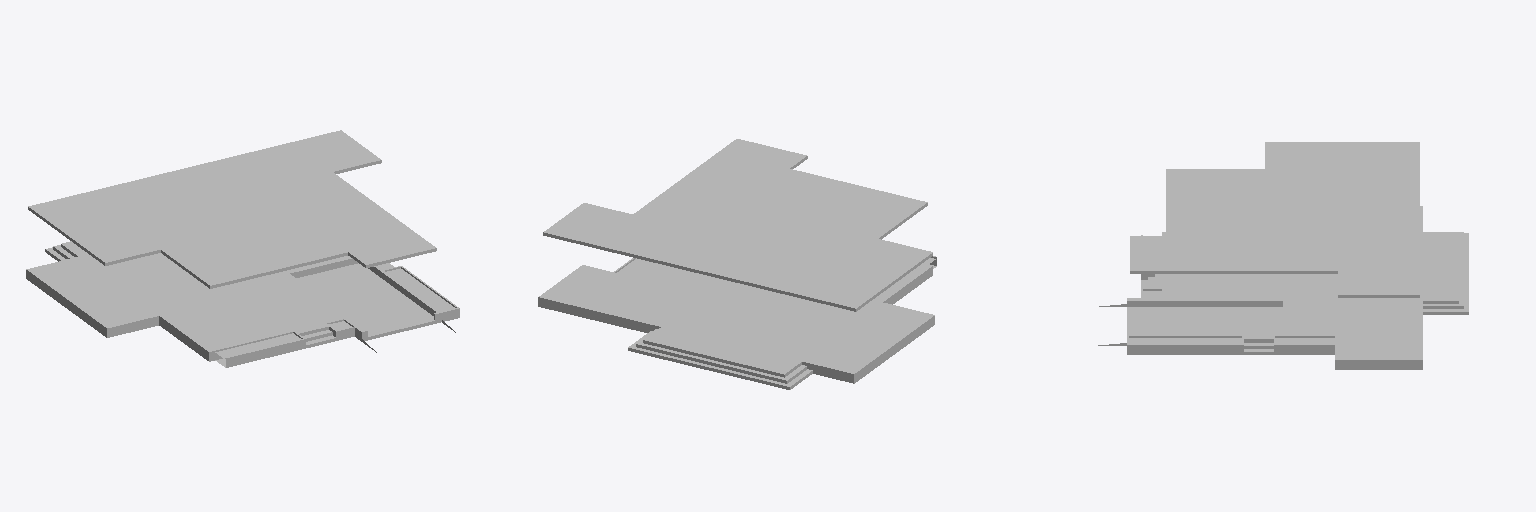
3 renders of one model, left to right at view 1: azimuth 30°, elevation 25°; view 2: azimuth 150°, elevation 25°; view 3: azimuth 270°, elevation 25°, orthographic.
Parts seen in each view (by area): view 1: MH1_OBJ_03_MH1_OBJ_03.001; view 2: MH1_OBJ_03_MH1_OBJ_03.001; view 3: MH1_OBJ_03_MH1_OBJ_03.001.
Part boxes in pixels (x1,y1,x2,y2): MH1_OBJ_03_MH1_OBJ_03.001: (26,130,459,367); MH1_OBJ_03_MH1_OBJ_03.001: (538,139,936,389); MH1_OBJ_03_MH1_OBJ_03.001: (1098,142,1468,369).
Bounding box in the file's own units: 79.23 × 17.69 × 81.92.